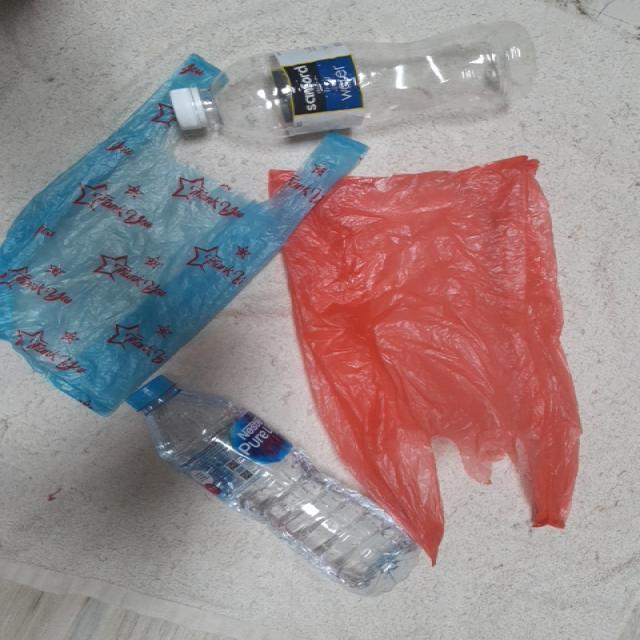PET Bottle: (107, 348, 451, 605), (153, 17, 585, 160)
